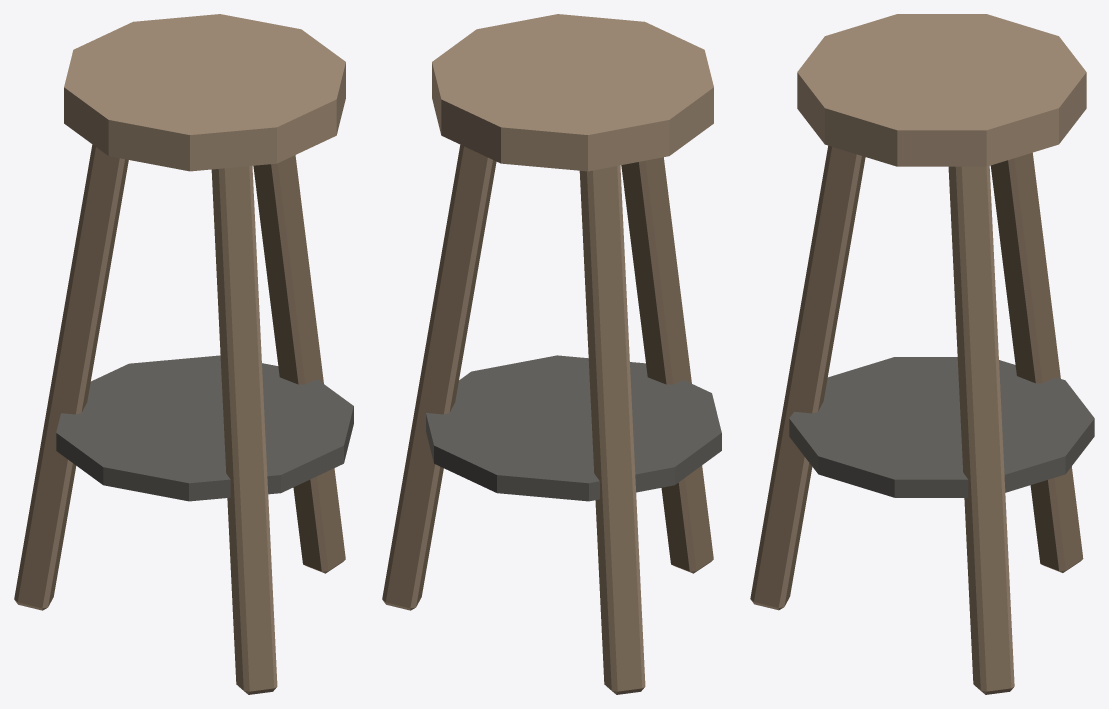
The model's file is stool_3.glb.
3 renders of one model, left to right at view 1: azimuth 30°, elevation 25°; view 2: azimuth 150°, elevation 25°; view 3: azimuth 270°, elevation 25°, orthographic.
Parts seen in each view (by area): view 1: Stool_3; view 2: Stool_3; view 3: Stool_3.
Boxes of the visible parts, box(x1,y1,x2,y2) form: Stool_3: box(14, 14, 353, 694); Stool_3: box(382, 14, 721, 694); Stool_3: box(750, 14, 1094, 694).
Size of the model in its own units: 0.4223 by 0.7525 by 0.4284.
